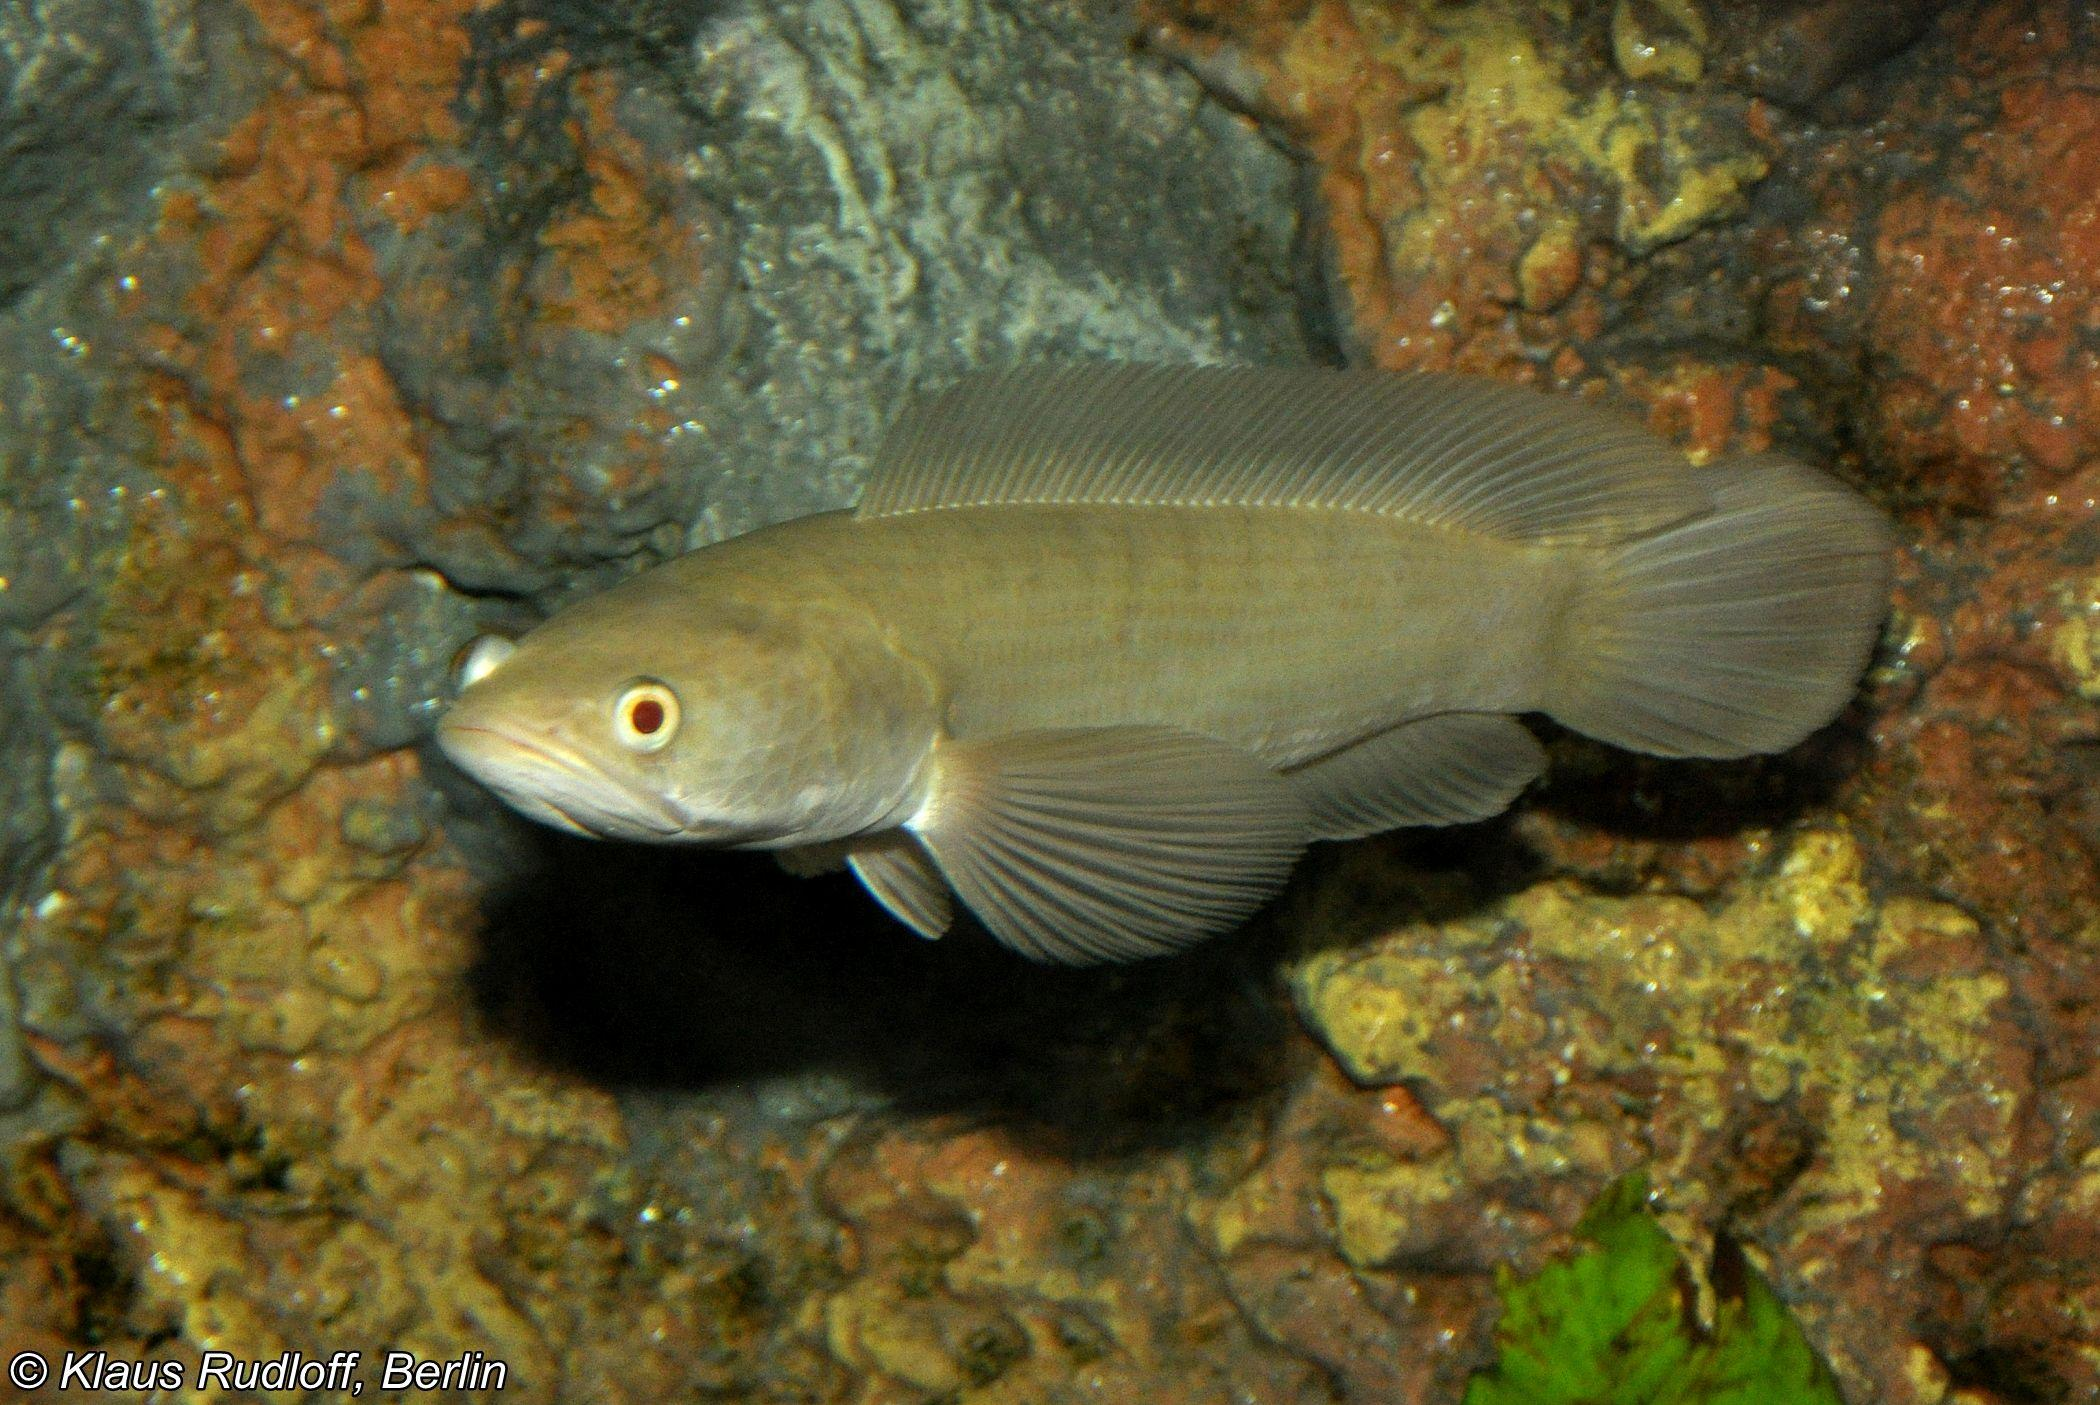Mudfish: (438, 337, 1904, 983)
